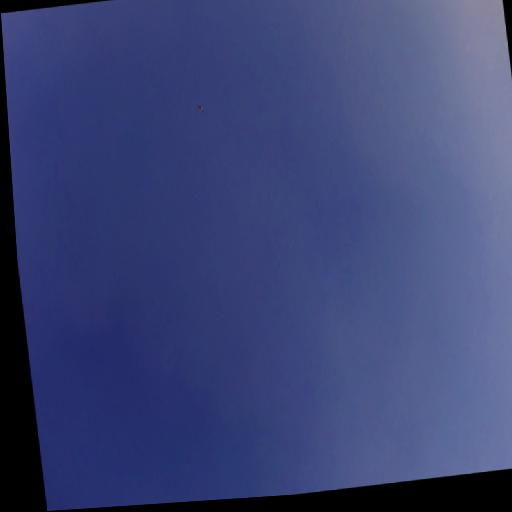drones: (195, 101, 206, 114)
